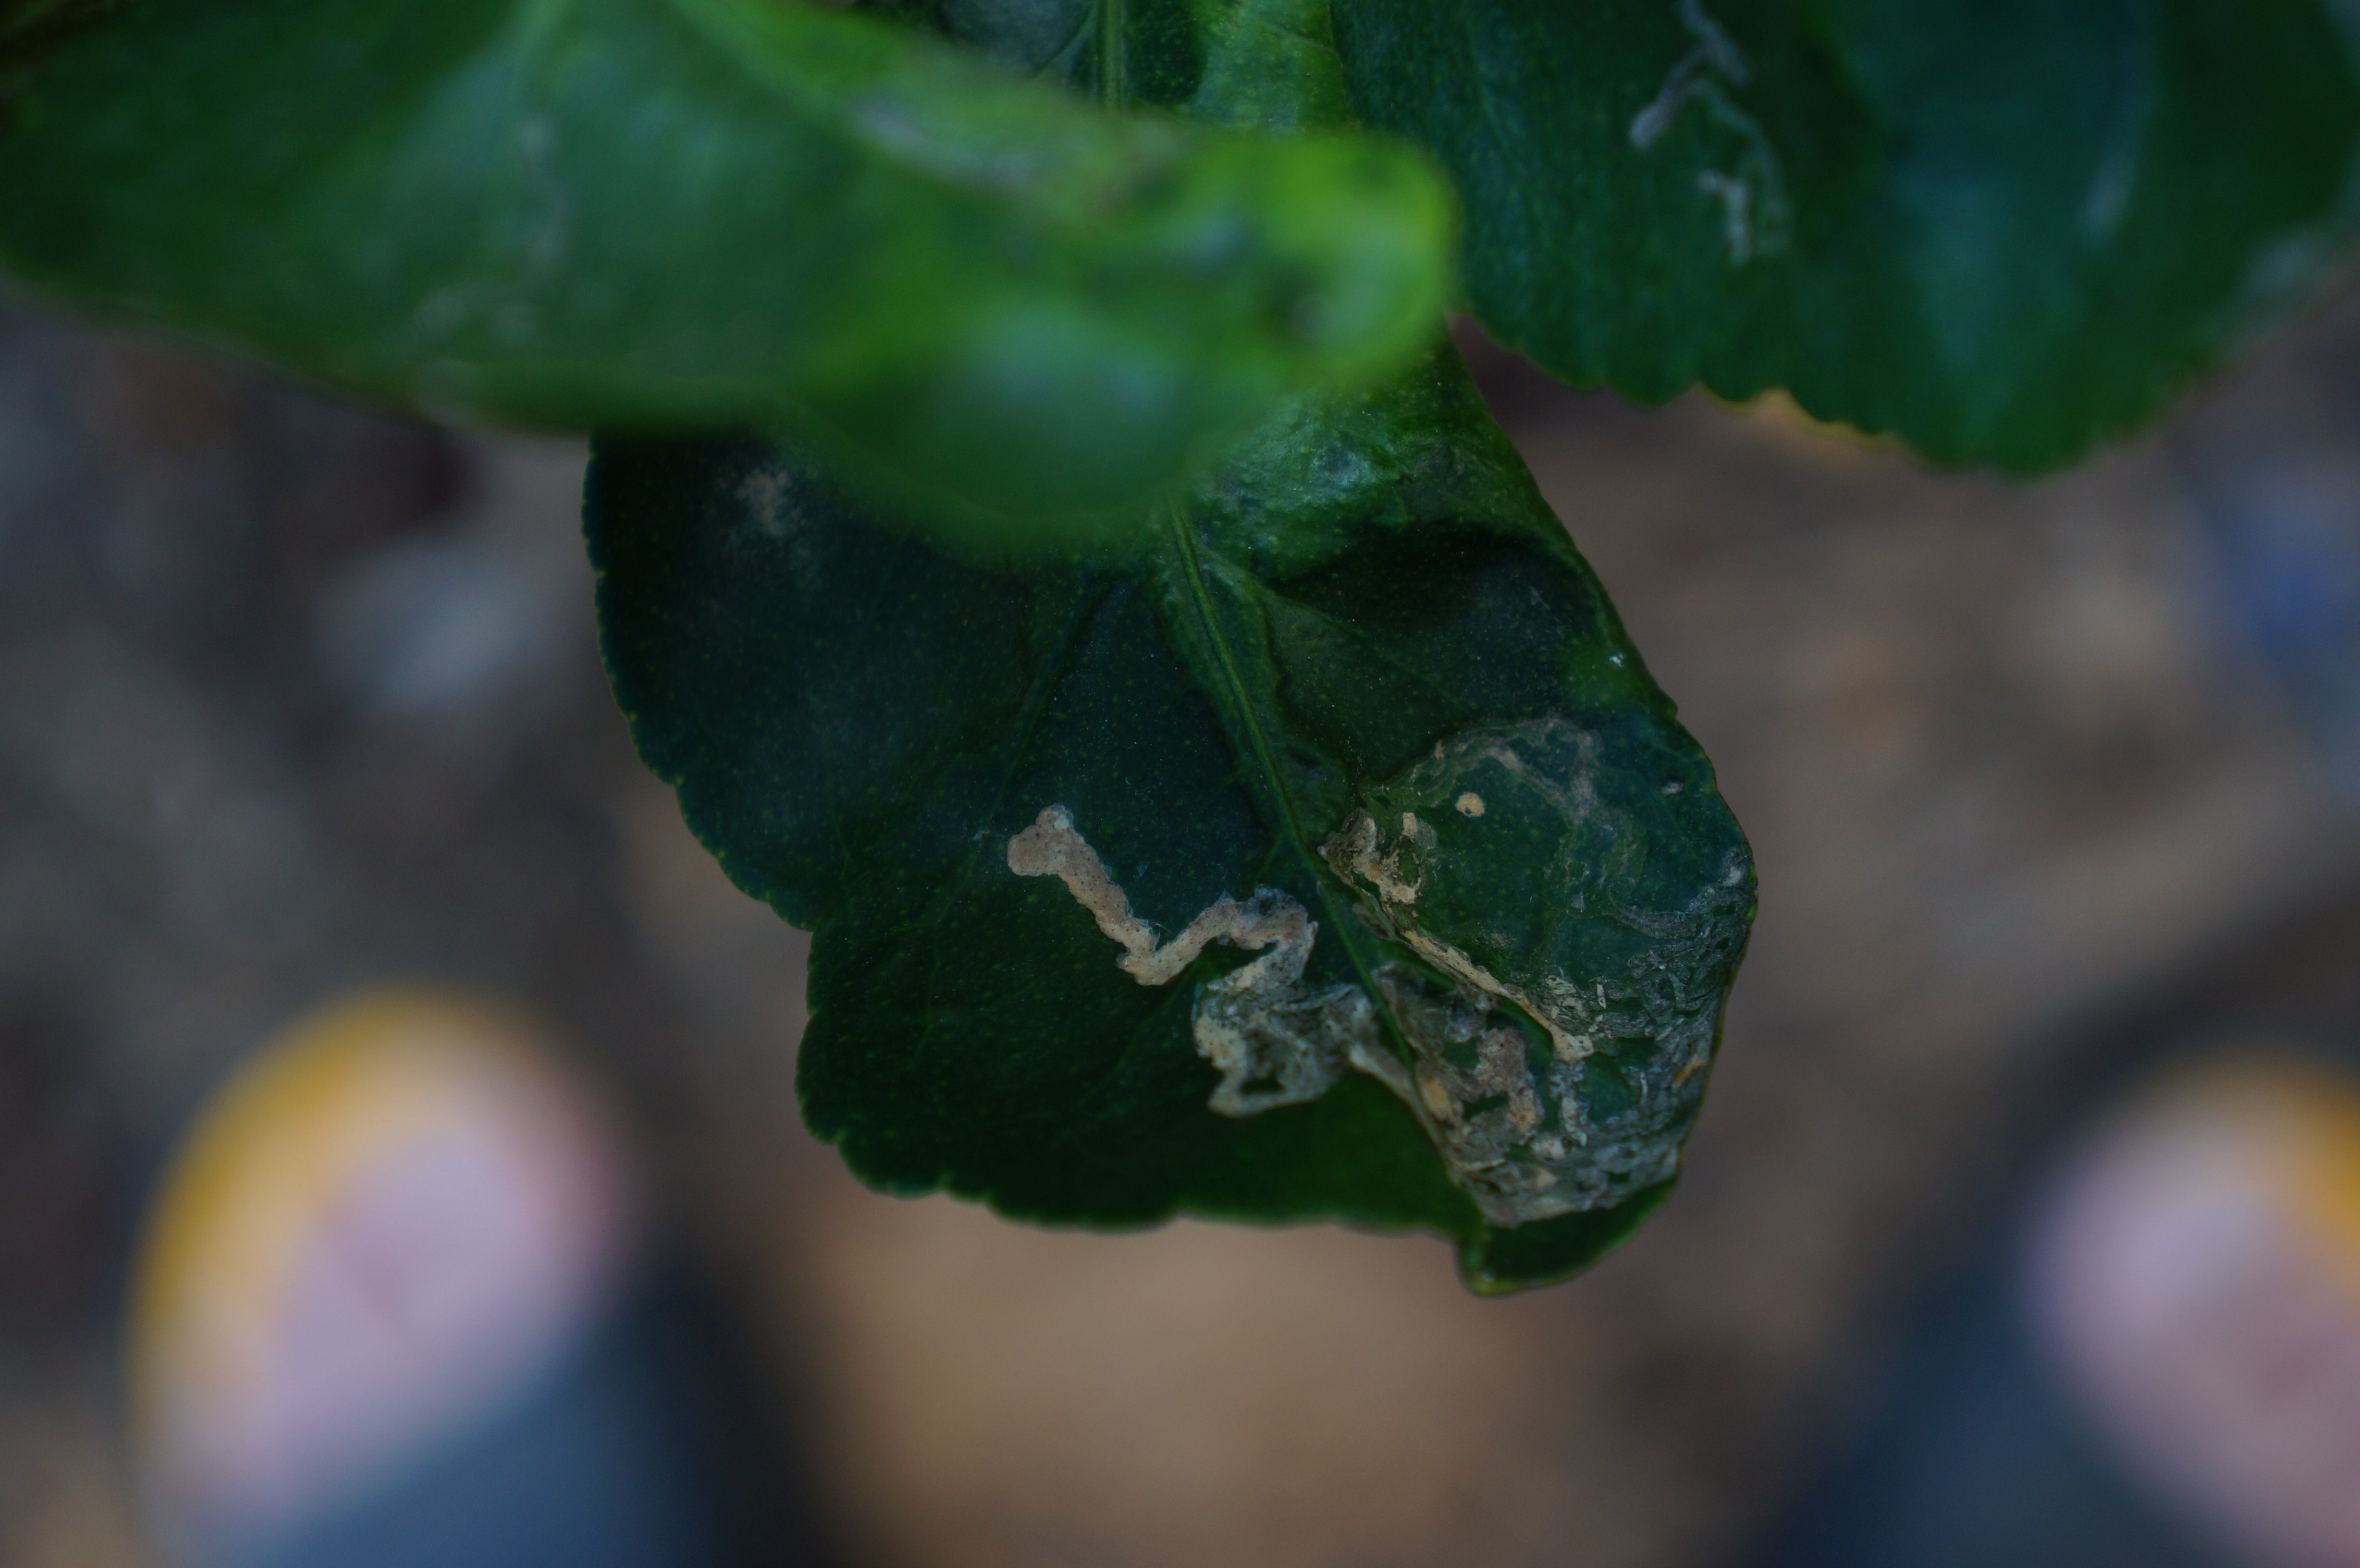damage: (976, 679, 1741, 1304)
